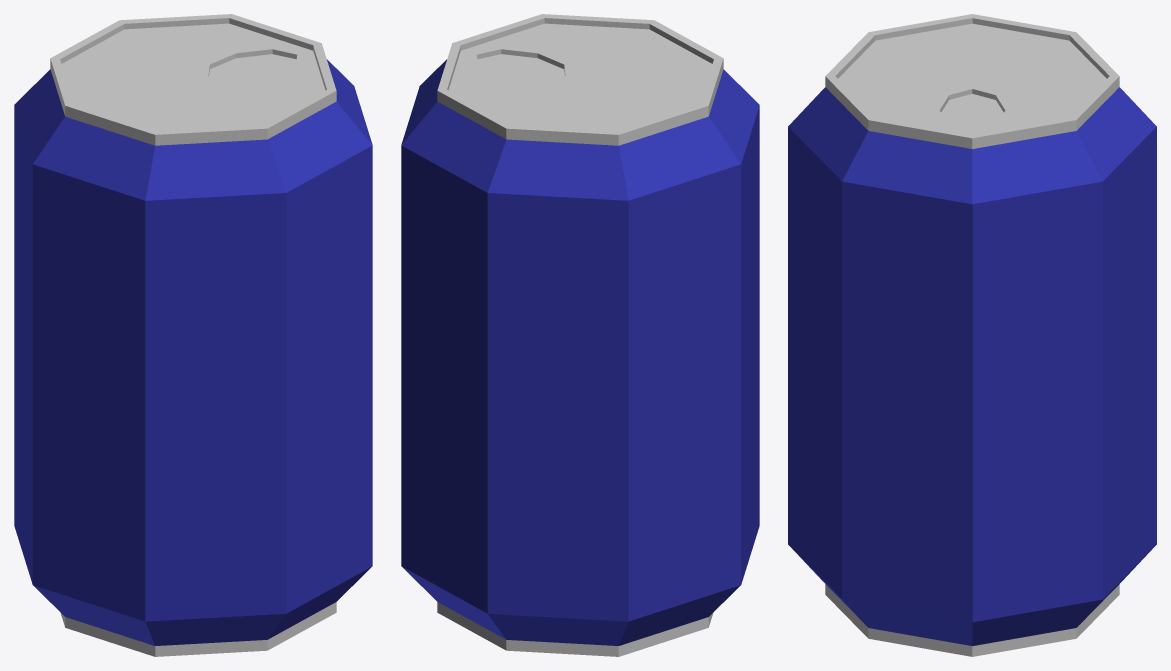
File: can4.fbx
The picture shows the model from 3 angles, left to right: view 1: azimuth 30°, elevation 25°; view 2: azimuth 150°, elevation 25°; view 3: azimuth 270°, elevation 25°; orthographic projection.
Visible parts, largest first — view 1: can4; view 2: can4; view 3: can4.
Boxes of the visible parts, x1,y1,x2,y2 form: can4: [14, 14, 372, 656]; can4: [401, 14, 759, 656]; can4: [788, 14, 1156, 656].
Size of the model in its own units: 0.0899 by 0.1395 by 0.0899.
